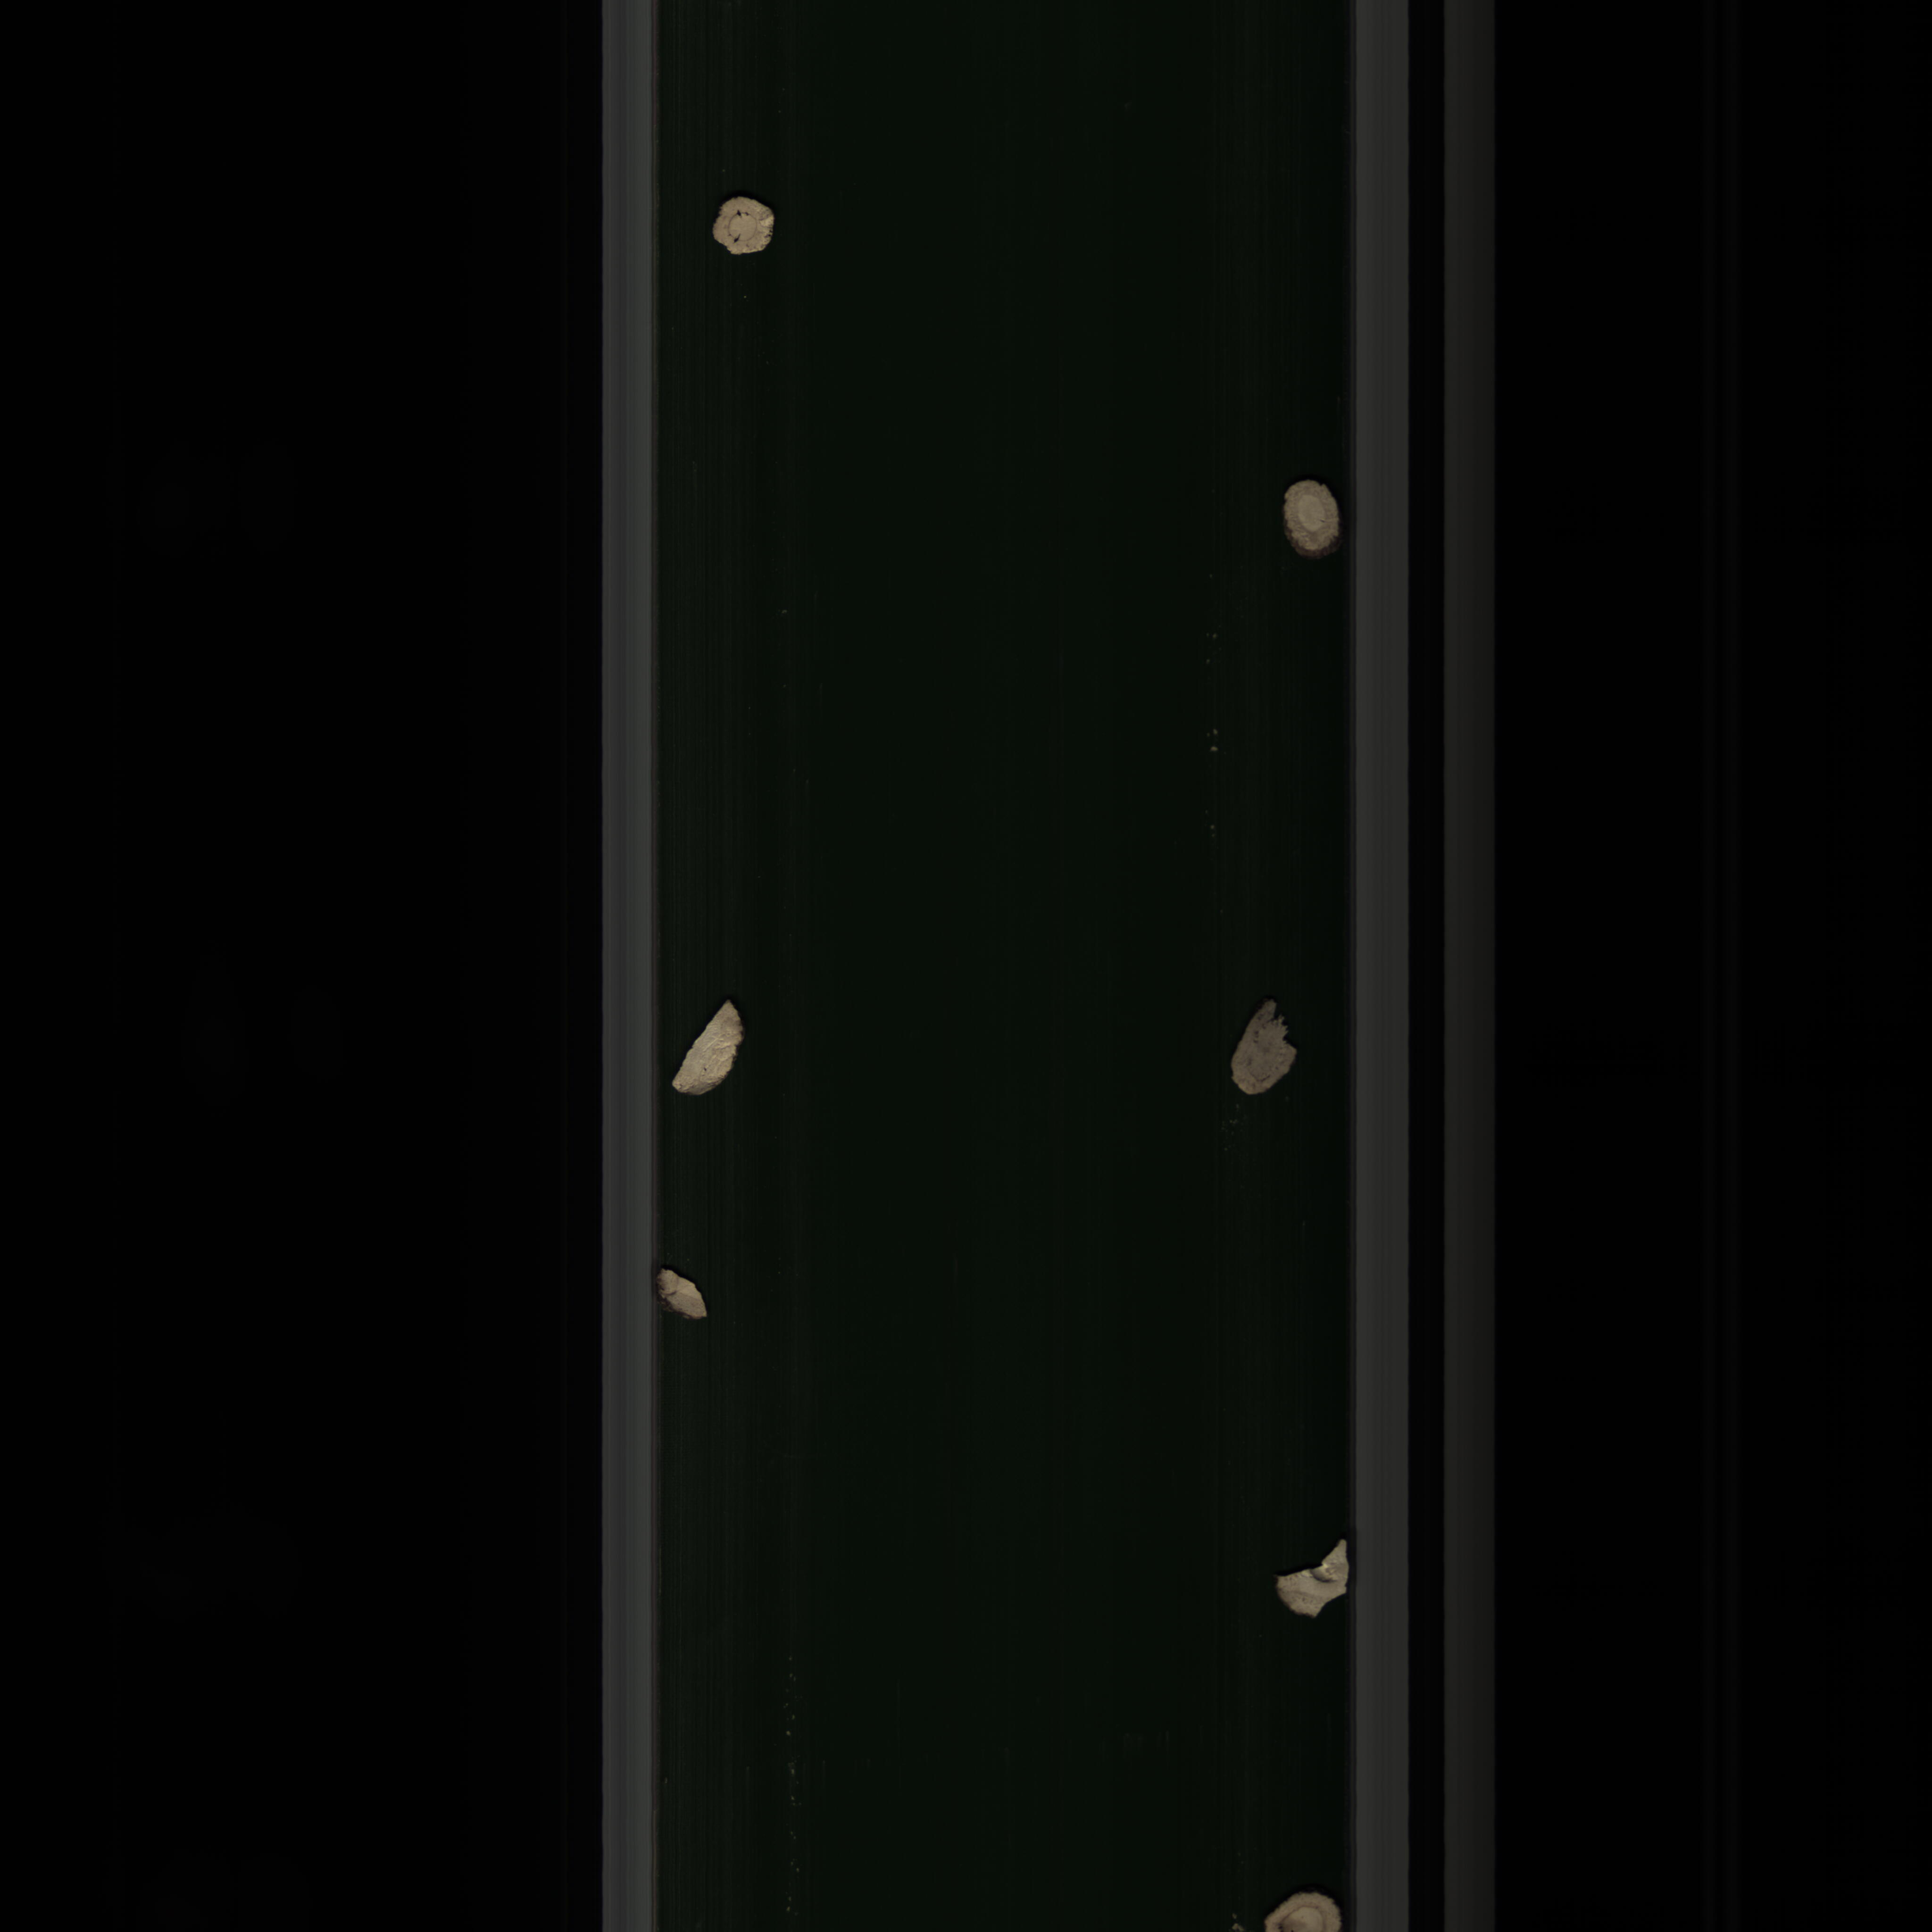debris: (667, 989, 752, 1111), (1228, 998, 1311, 1102), (1272, 1529, 1350, 1622), (656, 1256, 713, 1327)
hole: (706, 189, 780, 267)
